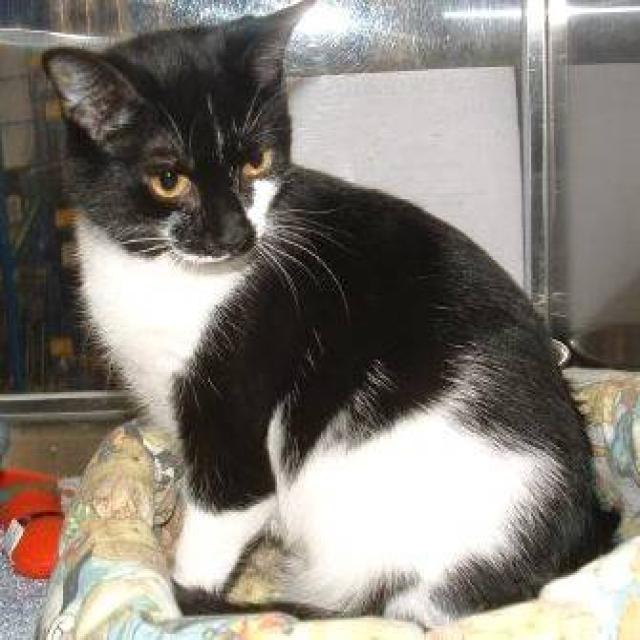cat: (38, 0, 623, 632)
